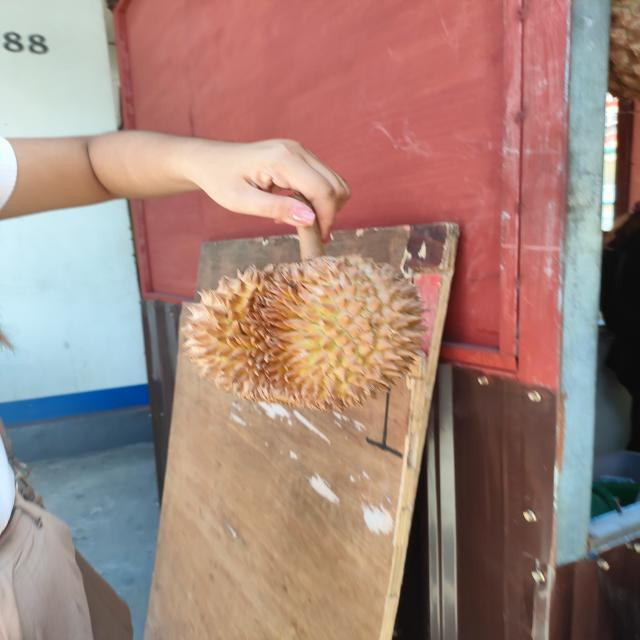mature: (181, 254, 433, 413)
